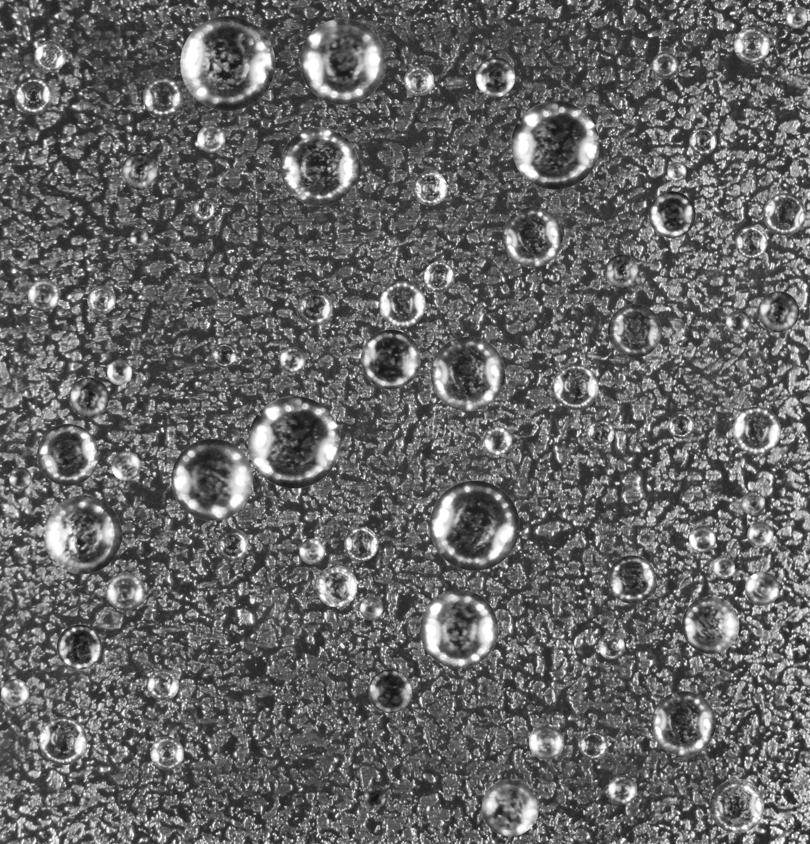Bubble: (180, 16, 275, 110), (248, 396, 340, 488), (429, 480, 519, 570), (511, 101, 599, 189), (300, 18, 386, 104), (171, 438, 253, 520), (419, 589, 498, 668), (43, 495, 121, 574), (280, 127, 358, 205), (430, 336, 505, 411), (651, 691, 715, 755), (37, 424, 98, 485), (360, 329, 420, 389), (502, 207, 562, 266), (682, 596, 739, 653), (481, 779, 538, 836), (710, 779, 764, 833), (608, 304, 661, 357), (608, 555, 656, 603), (39, 717, 87, 765), (733, 406, 780, 454), (648, 191, 695, 238), (379, 281, 425, 327), (553, 364, 598, 409), (56, 624, 101, 669), (368, 669, 412, 713), (763, 193, 806, 235), (315, 565, 357, 607), (758, 291, 799, 332), (142, 77, 183, 117), (68, 377, 109, 417), (475, 57, 515, 96), (13, 76, 51, 114), (106, 572, 144, 610), (121, 152, 158, 189), (296, 289, 332, 325), (734, 27, 770, 63), (528, 724, 564, 759), (605, 254, 639, 289), (412, 171, 447, 205), (344, 527, 378, 561), (745, 571, 779, 605), (150, 736, 183, 770), (735, 226, 767, 258), (216, 529, 248, 561), (27, 279, 59, 311), (34, 40, 65, 71), (147, 669, 178, 700), (424, 261, 454, 292), (404, 65, 434, 95), (111, 451, 140, 480), (608, 775, 637, 804), (483, 426, 512, 454), (0, 679, 29, 707), (87, 285, 115, 314), (197, 124, 225, 152), (579, 731, 607, 759), (689, 127, 716, 154), (587, 419, 614, 446), (689, 525, 715, 552), (598, 632, 624, 659), (652, 52, 678, 78), (747, 521, 773, 547), (668, 412, 694, 438), (299, 538, 325, 564), (106, 359, 132, 384), (279, 347, 305, 372), (741, 491, 765, 515), (212, 343, 236, 367), (726, 310, 750, 334), (363, 785, 386, 808), (360, 597, 382, 620), (712, 556, 735, 578), (9, 467, 31, 489), (786, 6, 807, 28), (193, 198, 214, 219), (667, 162, 686, 181), (130, 228, 148, 246), (24, 387, 35, 398), (550, 272, 559, 281)
